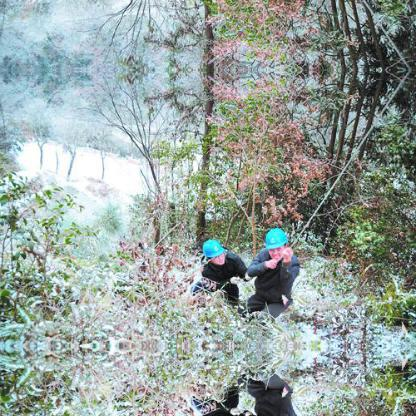helmet: (262, 225, 291, 256), (203, 235, 228, 264)
